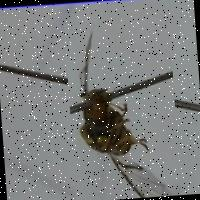Oriental-fruit-fly: (63, 16, 180, 200)
